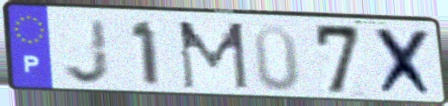0: (250, 23, 302, 94)
1: (127, 20, 167, 89)
7: (311, 21, 365, 99)
J: (61, 17, 114, 87)
M: (175, 20, 252, 93)
X: (372, 25, 438, 100)
